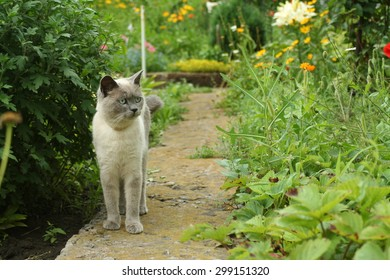cat: (90, 69, 151, 234)
